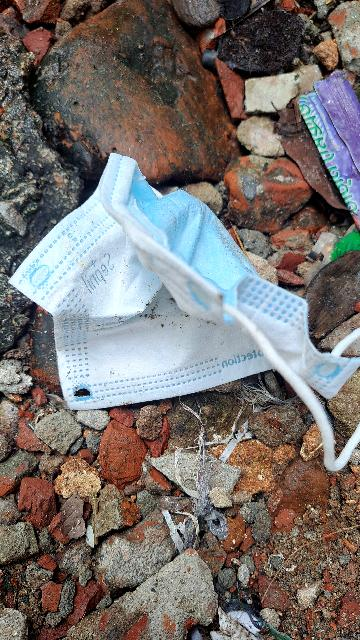mask: (0, 138, 360, 492)
